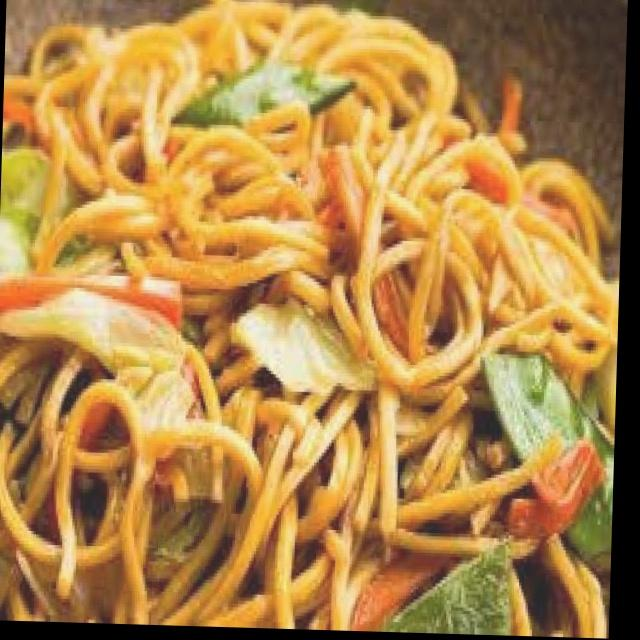pancit bihon: (0, 10, 634, 639)
